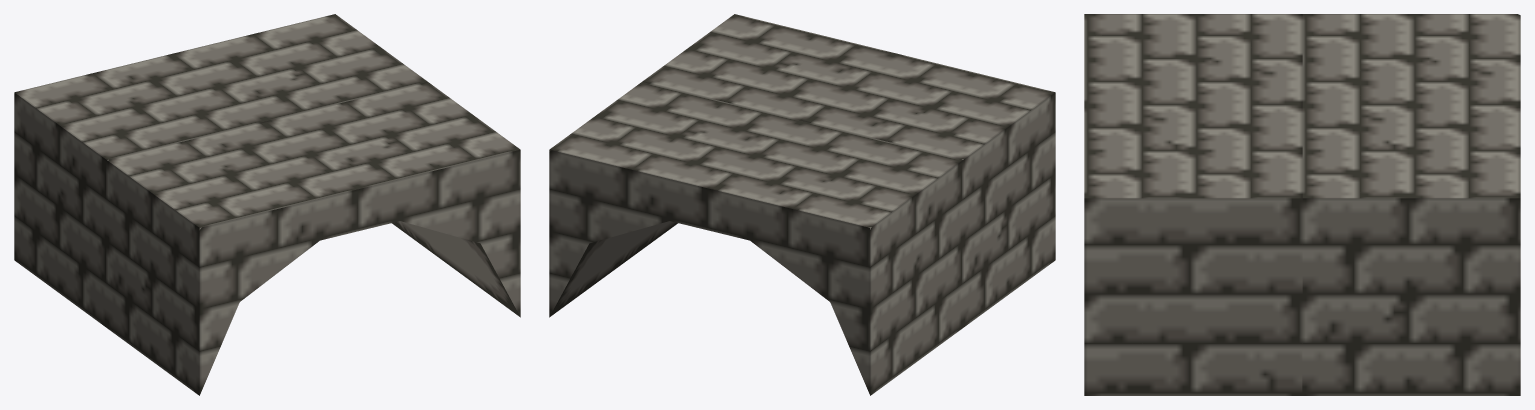
The model's file is Ceiling_Arch_Skinny_x1.fbx.
The picture shows the model from 3 angles, left to right: view 1: azimuth 30°, elevation 25°; view 2: azimuth 150°, elevation 25°; view 3: azimuth 270°, elevation 25°; orthographic projection. The views are drawn at different scales.
Visible parts, largest first — view 1: Ceiling_Arch_Skinny_x1; view 2: Ceiling_Arch_Skinny_x1; view 3: Ceiling_Arch_Skinny_x1.
Part boxes in pixels (x1,y1,x2,y2): Ceiling_Arch_Skinny_x1: [14, 14, 520, 395]; Ceiling_Arch_Skinny_x1: [549, 14, 1055, 395]; Ceiling_Arch_Skinny_x1: [1084, 14, 1520, 395].
Bounding box in the file's own units: 400 × 200 × 400.
1 material, 1 textured.
